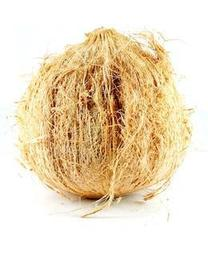coconut: (21, 34, 187, 201)
